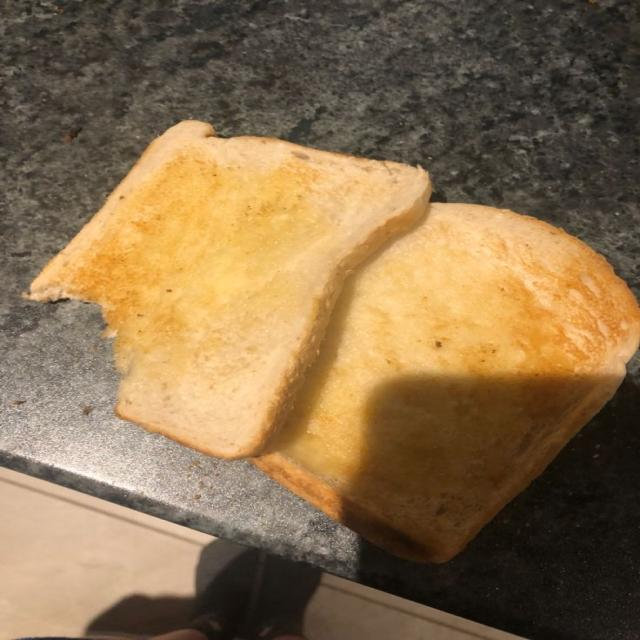toast bread: (252, 204, 639, 561), (26, 121, 430, 459)
